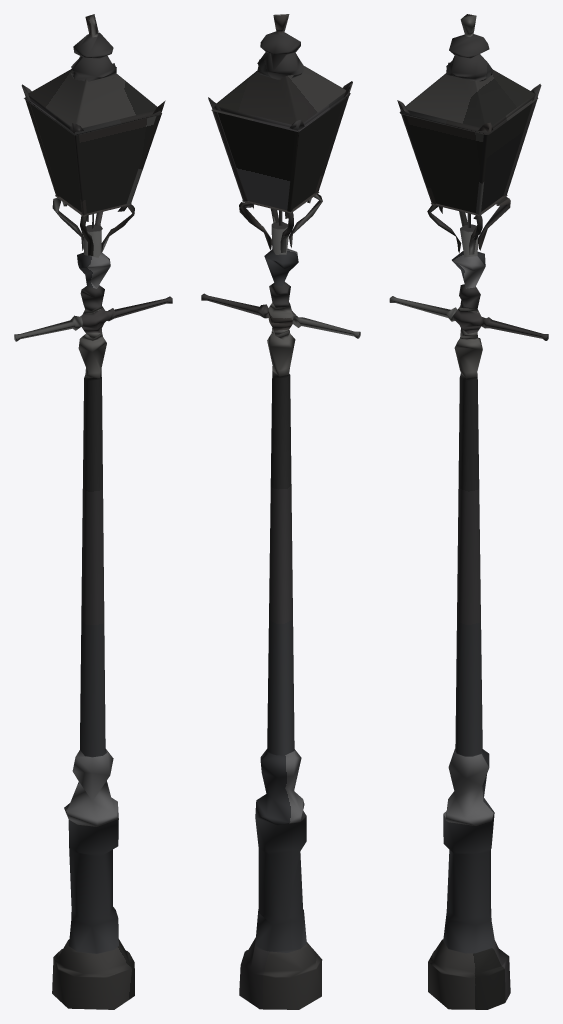
File: ph_streetlamp_1.glb
3 views of the same model, side by side, from view 1: azimuth 30°, elevation 25°; view 2: azimuth 150°, elevation 25°; view 3: azimuth 330°, elevation 25° (orthographic).
Parts seen in each view (by area): view 1: ph_streetlamp_1; view 2: ph_streetlamp_1; view 3: ph_streetlamp_1.
Boxes of the visible parts, x1,y1,x2,y2 form: ph_streetlamp_1: (14, 14, 172, 1009); ph_streetlamp_1: (201, 14, 360, 1009); ph_streetlamp_1: (389, 14, 548, 1009).
Bounding box in the file's own units: 0.6434 × 3.86 × 0.3863.
Materials: 3 (3 with a texture image).
